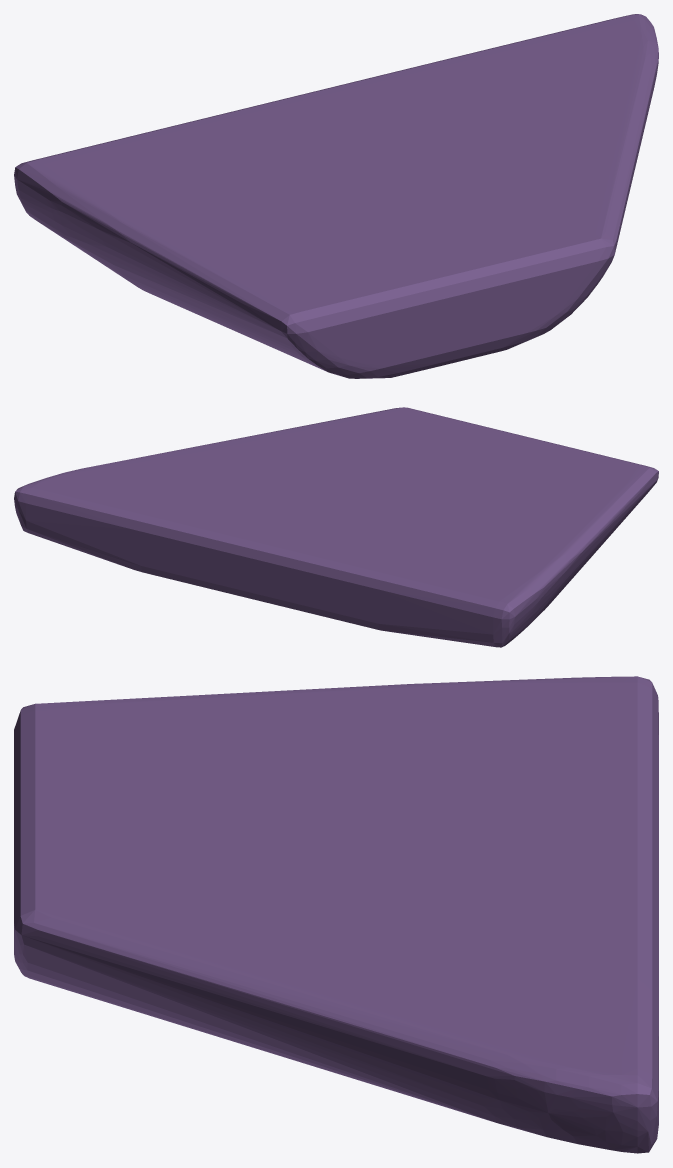
The model's file is right_shoulder_yaw_link_part_1.obj.
3 views of the same model, one above another, from view 1: azimuth 30°, elevation 25°; view 2: azimuth 150°, elevation 25°; view 3: azimuth 270°, elevation 25° (orthographic). The views are drawn at different scales.
Size of the model in its own units: 0.0972 by 0.0153 by 0.0633.
